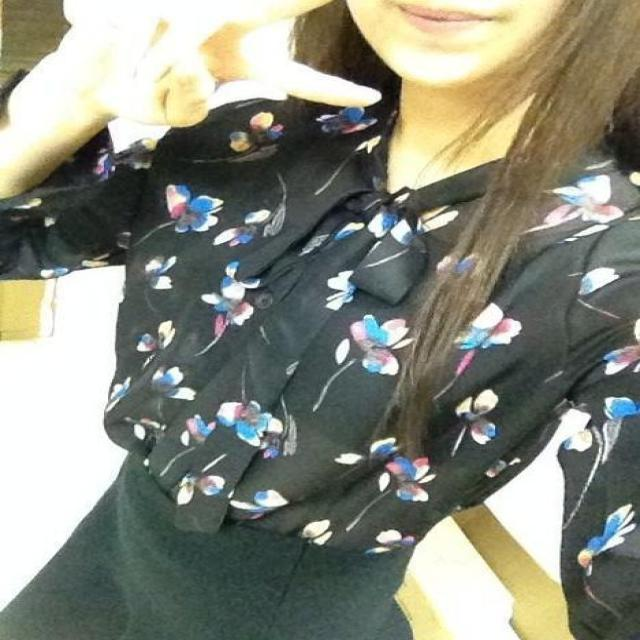long sleeve top: (1, 98, 639, 637)
skirt: (4, 450, 416, 638)
